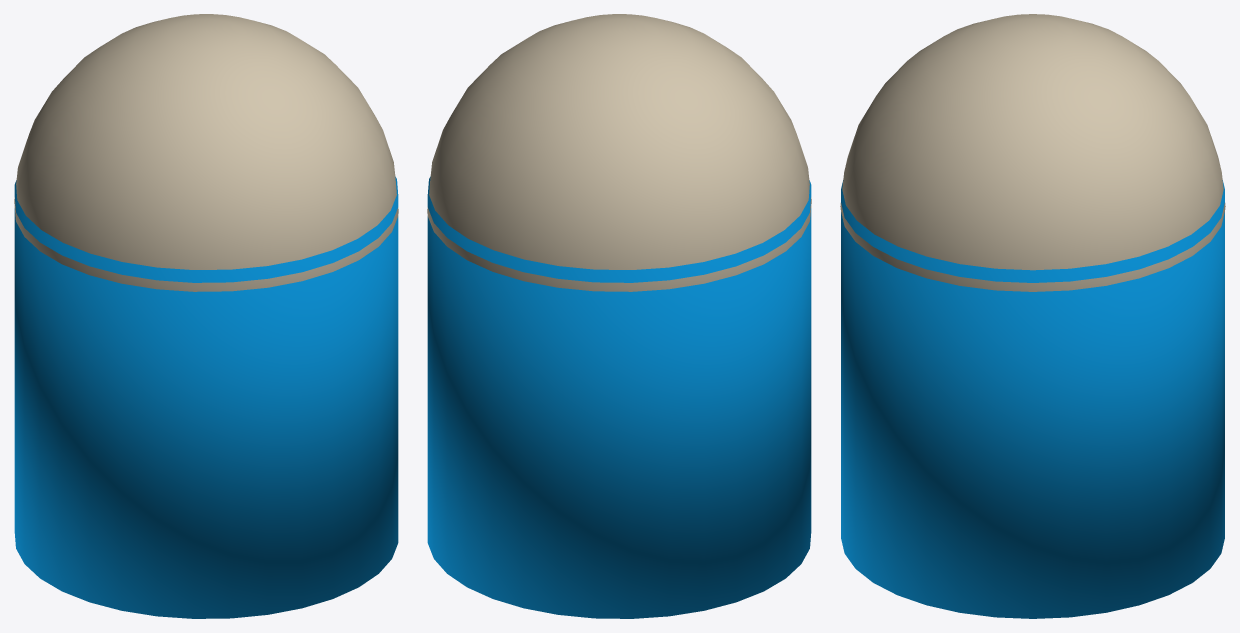
File: People.glb
The picture shows the model from 3 angles, left to right: view 1: azimuth 30°, elevation 25°; view 2: azimuth 150°, elevation 25°; view 3: azimuth 270°, elevation 25°; orthographic projection.
Parts seen in each view (by area): view 1: Cylinder; view 2: Cylinder; view 3: Cylinder.
Part boxes in pixels (x1,y1,x2,y2): Cylinder: (14, 14, 398, 618); Cylinder: (427, 14, 811, 618); Cylinder: (840, 14, 1225, 618).
Bounding box in the file's own units: 0.3734 × 0.5413 × 0.3734.
2 materials, 2 textured.
